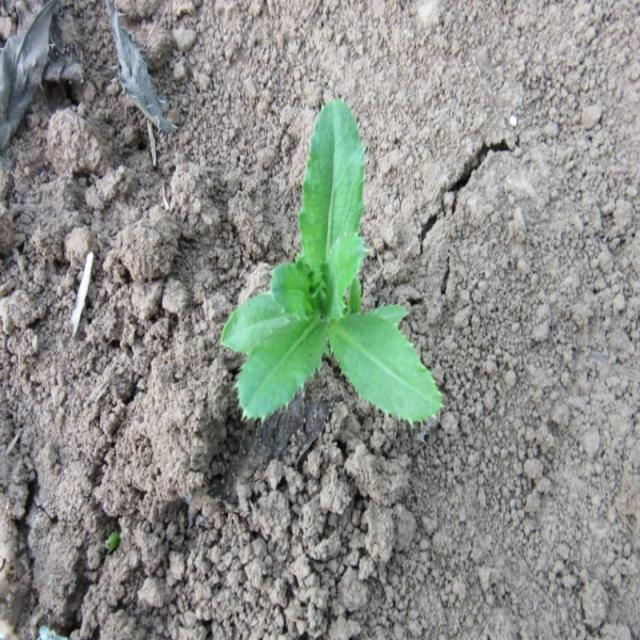cs: (220, 98, 446, 428)
